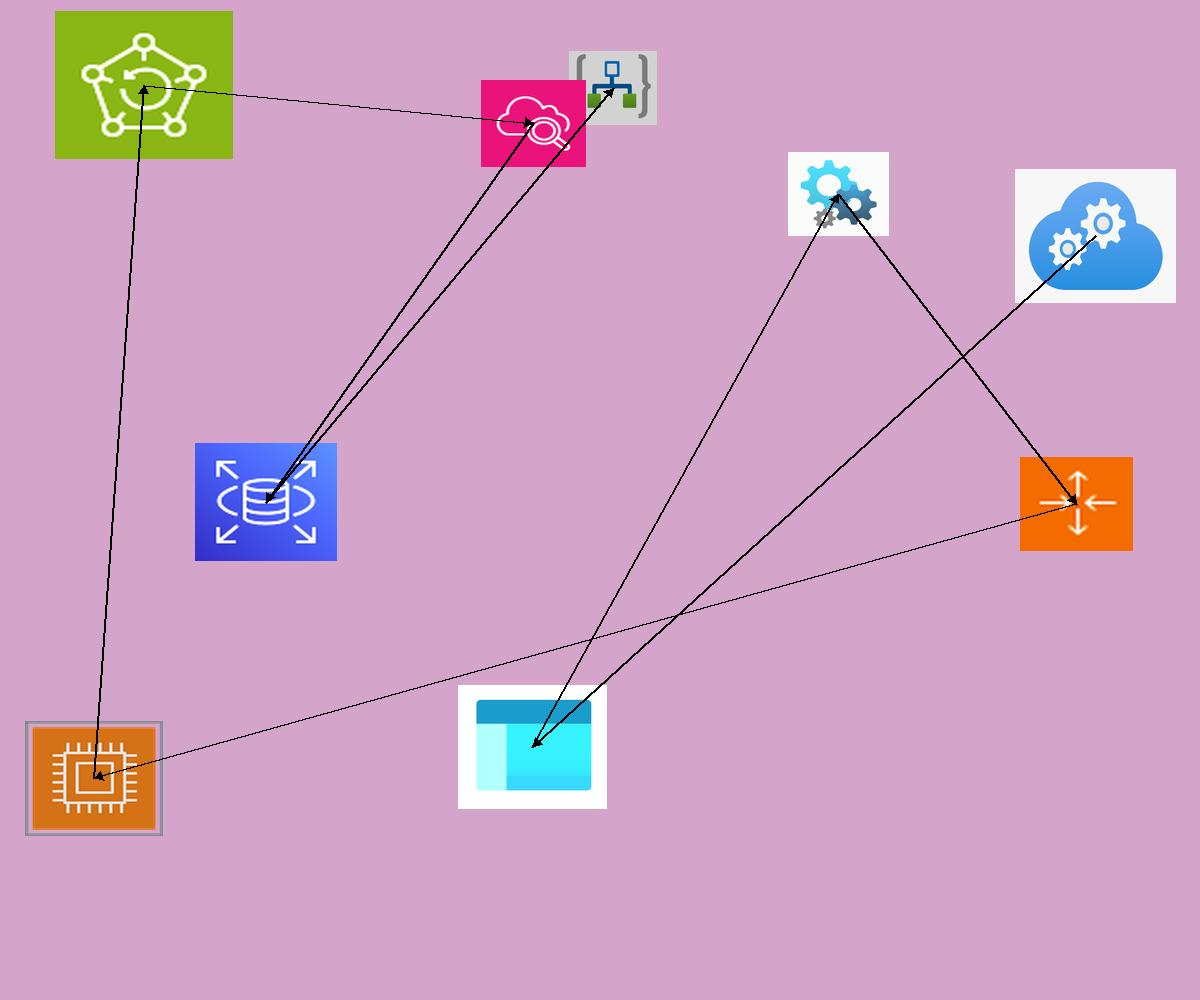AWS-Backup: (55, 11, 233, 159)
AWS-Category_Compute: (25, 721, 163, 836)
AWS-CloudWatch: (481, 80, 586, 167)
AWS-RDS: (195, 443, 337, 561)
AWS-Scaling-group: (1020, 457, 1133, 551)
Azure_api: (788, 152, 889, 236)
Azure_cloud_services: (1015, 169, 1176, 303)
Azure_integration-204-Logic-Apps: (569, 51, 657, 125)
Azure_management-portal: (458, 685, 607, 809)
